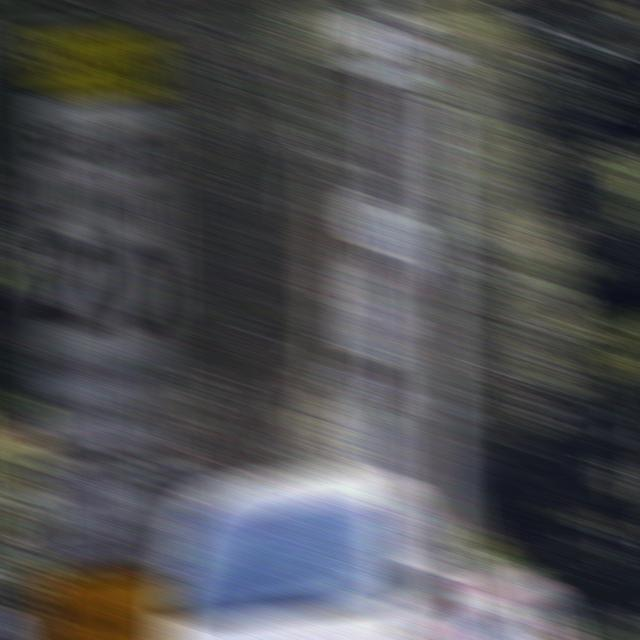speedLimit20: (36, 98, 165, 356)
